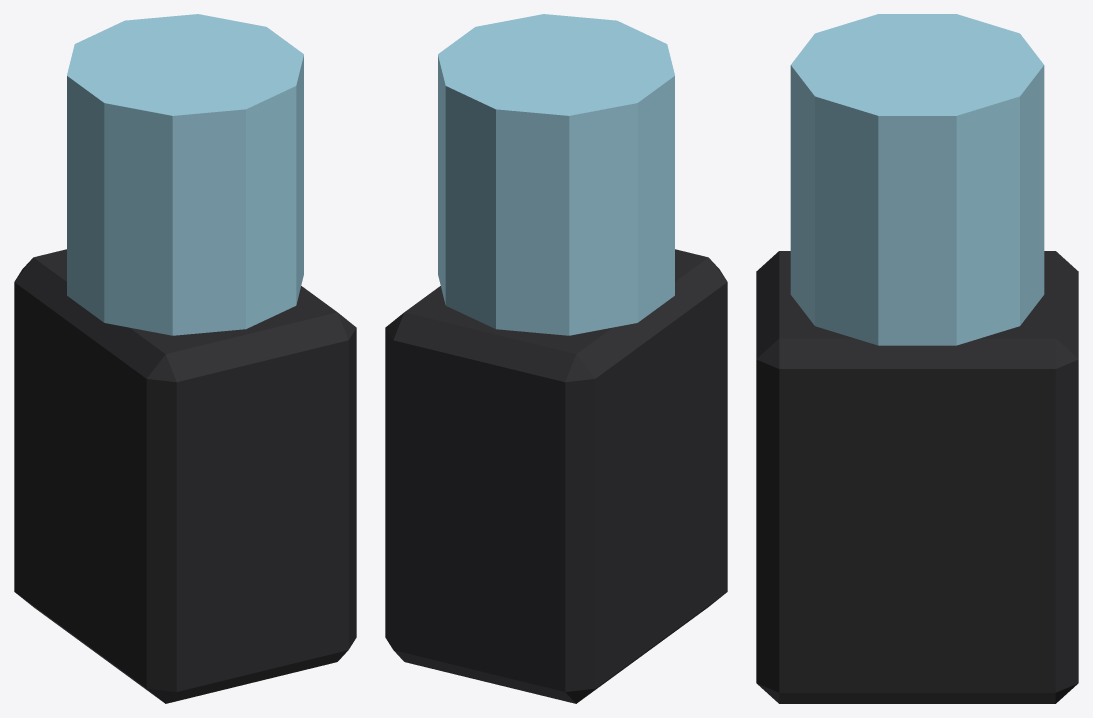
The model's file is grinder.fbx.
3 views of the same model, side by side, from view 1: azimuth 30°, elevation 25°; view 2: azimuth 150°, elevation 25°; view 3: azimuth 270°, elevation 25° (orthographic). The views are drawn at different scales.
Parts seen in each view (by area): view 1: grinder; view 2: grinder; view 3: grinder.
Part boxes in pixels (box(x1,y1,x2,y2)): grinder: box(14, 14, 356, 703); grinder: box(385, 14, 727, 703); grinder: box(756, 14, 1078, 703).
Bounding box in the file's own units: 0.22 × 0.57 × 0.28.
